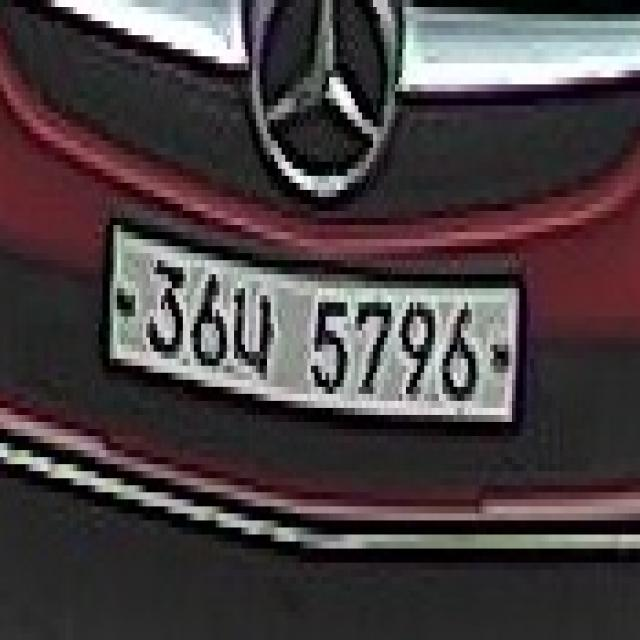3: (142, 253, 186, 366)
5: (307, 295, 351, 401)
6: (439, 302, 479, 401), (190, 267, 227, 373)
7: (355, 302, 391, 401)
9: (399, 302, 435, 401)
license_plate: (102, 211, 523, 450)
na: (230, 281, 274, 380)
